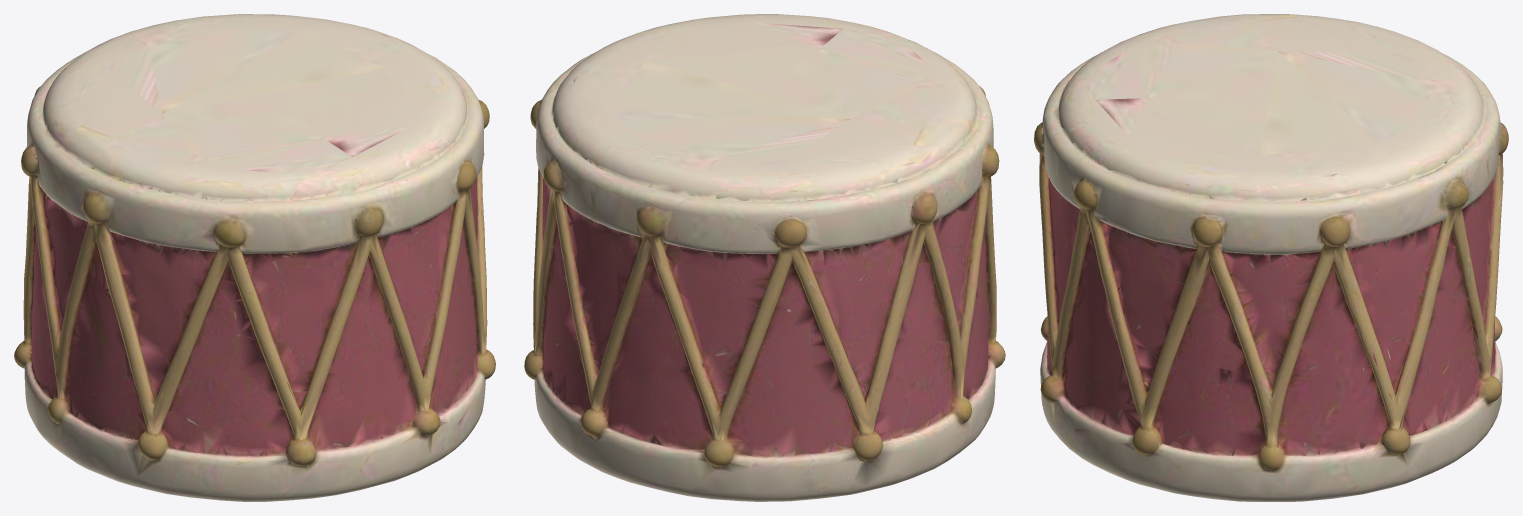
The picture shows the model from 3 angles, left to right: view 1: azimuth 30°, elevation 25°; view 2: azimuth 150°, elevation 25°; view 3: azimuth 270°, elevation 25°; orthographic projection.
Bounding box in the file's own units: 1.9 × 1.4 × 1.9.
Materials: 1 (1 with a texture image).
